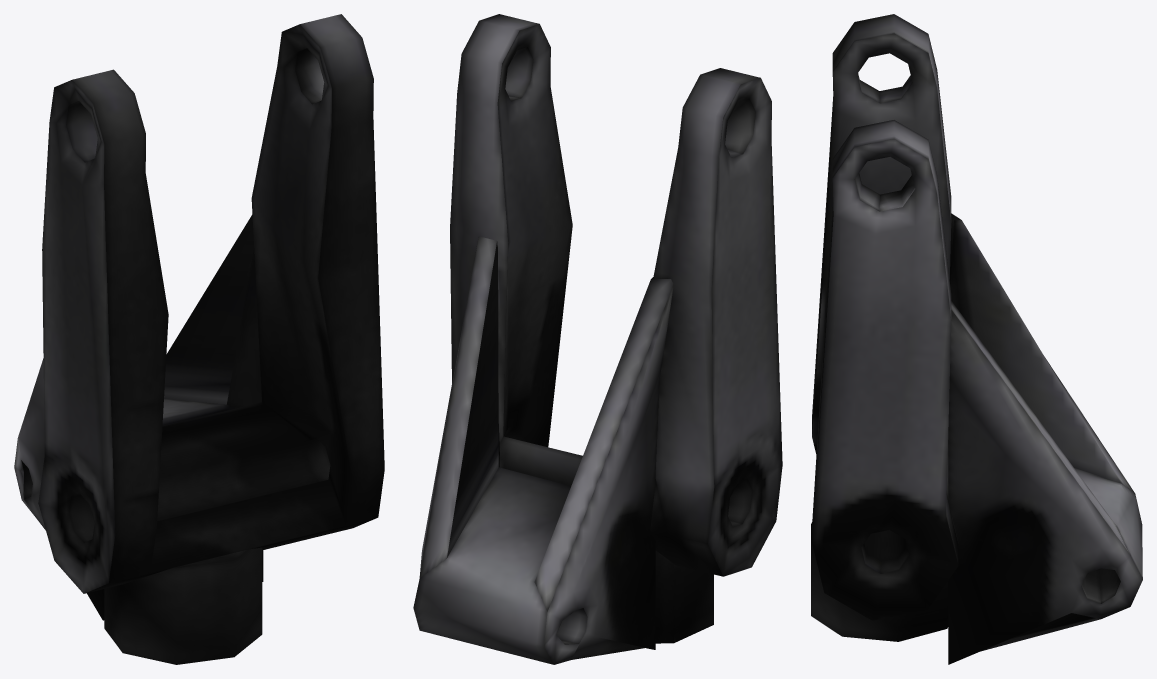
The model's file is l_uglut.dae.
3 views of the same model, side by side, from view 1: azimuth 30°, elevation 25°; view 2: azimuth 150°, elevation 25°; view 3: azimuth 270°, elevation 25° (orthographic). The views are drawn at different scales.
Visible parts, largest first — view 1: l_uglut; view 2: l_uglut; view 3: l_uglut.
Boxes of the visible parts, x1,y1,x2,y2 form: l_uglut: (14,14,384,664); l_uglut: (413,14,782,664); l_uglut: (811,14,1142,664).
Size of the model in its own units: 0.0824 by 0.0922 by 0.1684.
